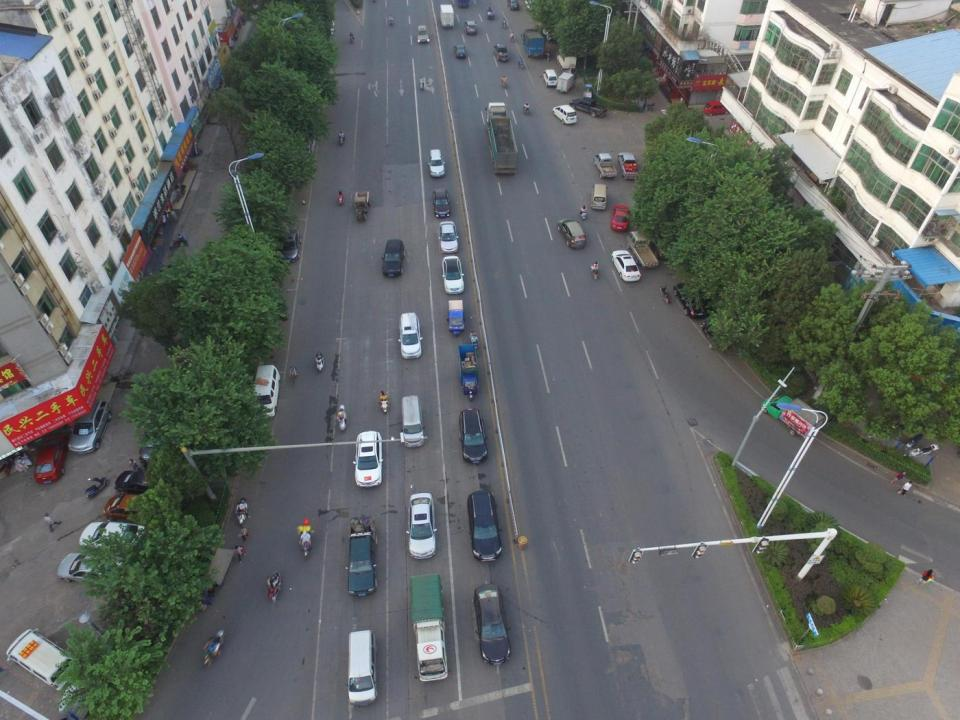car: (472, 583, 512, 666), (466, 490, 504, 562), (66, 398, 112, 456), (56, 552, 129, 588), (78, 519, 149, 553), (405, 492, 438, 559), (32, 430, 70, 485), (101, 492, 162, 523), (352, 430, 384, 487), (113, 469, 172, 498), (458, 408, 488, 464), (139, 440, 187, 470), (673, 282, 711, 318), (398, 312, 423, 360), (610, 250, 641, 282), (556, 217, 586, 249), (380, 239, 404, 277), (276, 228, 302, 262), (442, 256, 465, 294), (437, 220, 459, 254), (609, 204, 631, 232), (427, 148, 446, 178), (432, 188, 451, 217), (703, 100, 731, 116), (493, 43, 510, 62), (415, 25, 430, 44), (454, 44, 466, 57), (507, 0, 520, 10)
truck: (409, 573, 451, 683), (760, 394, 826, 439), (346, 515, 378, 597), (484, 101, 518, 175), (625, 230, 659, 269), (569, 97, 608, 117), (520, 28, 544, 59), (617, 151, 641, 180), (593, 152, 617, 178), (555, 47, 577, 70), (555, 72, 577, 93), (438, 4, 455, 28)
van: (5, 628, 82, 692), (344, 630, 379, 706), (250, 364, 281, 418), (400, 394, 426, 448), (552, 104, 578, 125), (590, 183, 609, 210), (543, 69, 558, 87), (464, 19, 477, 35)
